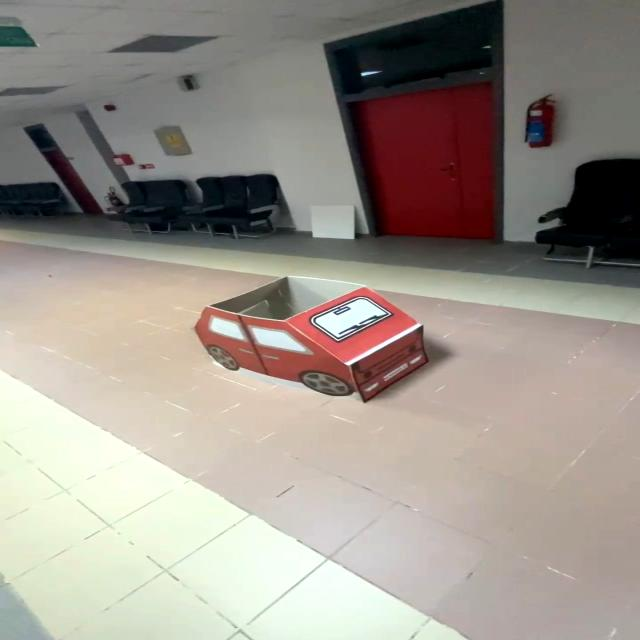red_car: (169, 264, 435, 432)
